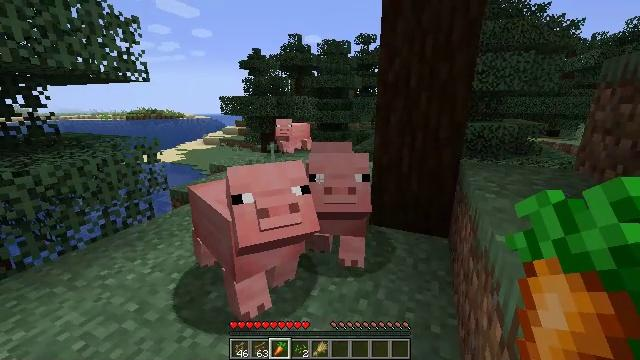pig: (191, 161, 309, 310), (310, 153, 374, 268), (276, 119, 312, 154)
